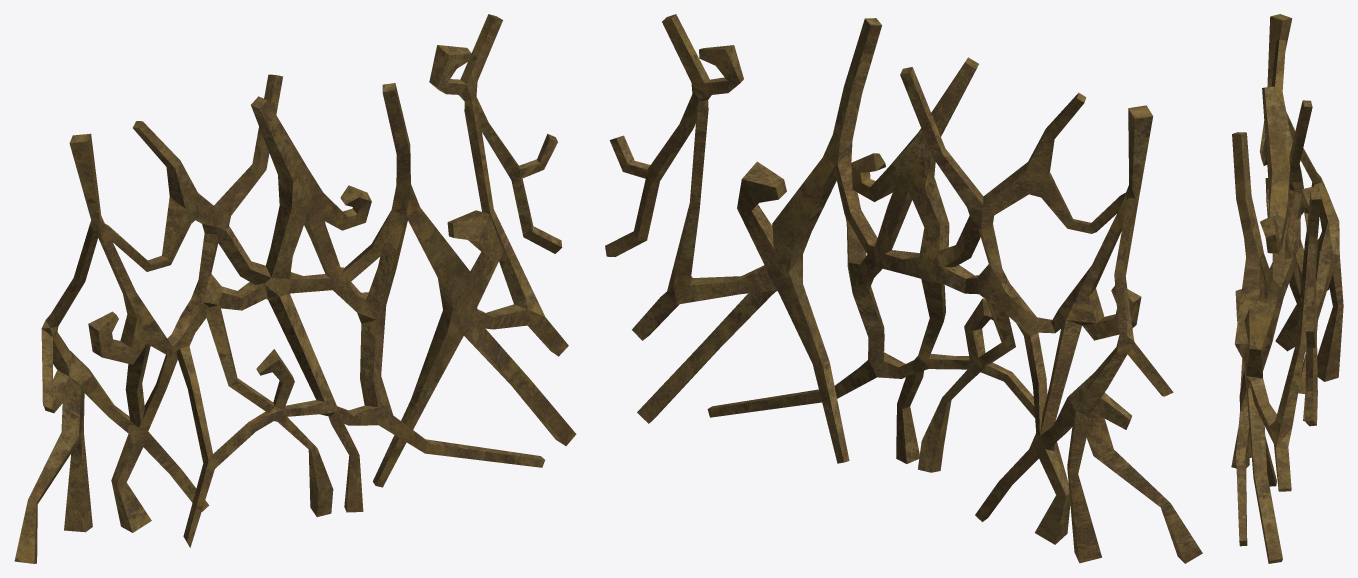
Rendered from mg_12__fence_1.fbx.
3 renders of one model, left to right at view 1: azimuth 30°, elevation 25°; view 2: azimuth 150°, elevation 25°; view 3: azimuth 270°, elevation 25°, orthographic. The views are drawn at different scales.
Visible parts, largest first — view 1: mg_12__fence_1; view 2: mg_12__fence_1; view 3: mg_12__fence_1.
Part boxes in pixels (x1=…): mg_12__fence_1: x1=14, y1=14, x2=576, y2=563; mg_12__fence_1: x1=605, y1=14, x2=1202, y2=563; mg_12__fence_1: x1=1231, y1=14, x2=1343, y2=563.
Bounding box in the file's own units: 223 × 160 × 45.89.
